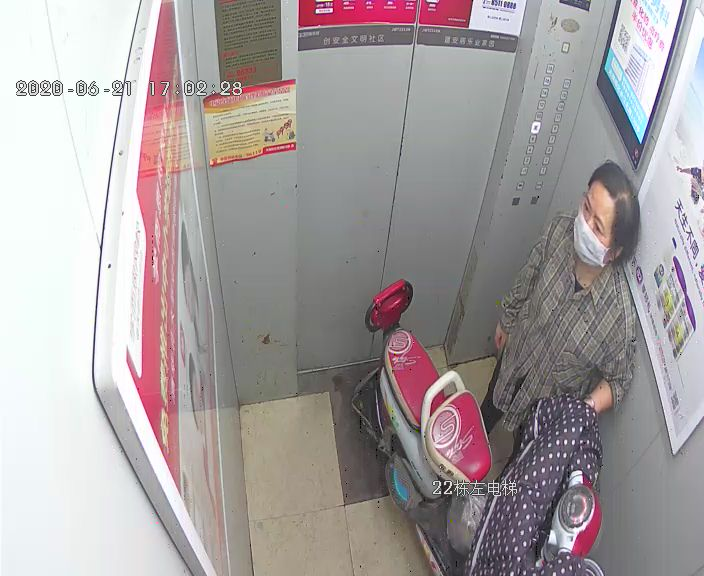Electric-bicycle: (353, 280, 599, 571)
